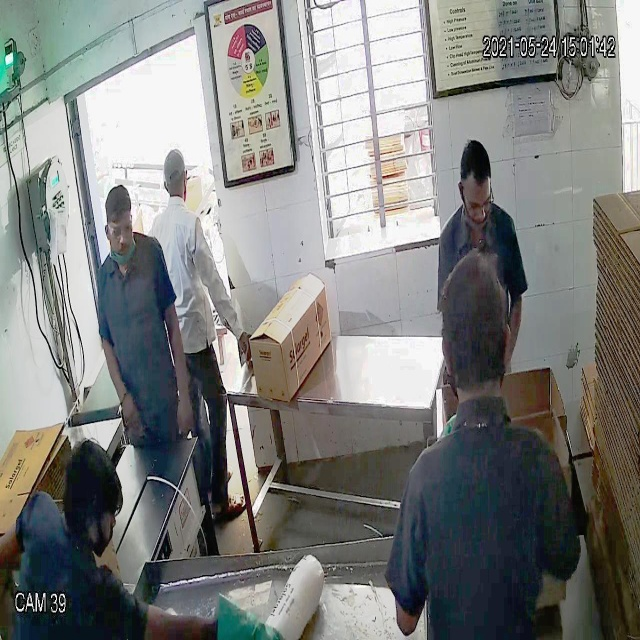Gafas: (455, 181, 498, 217), (102, 218, 138, 243)
